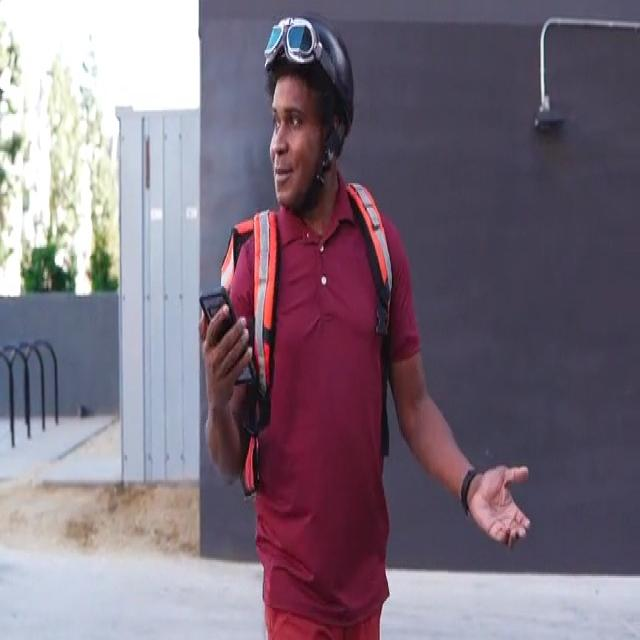Helmet_Wearer: (260, 8, 360, 220)
Person: (198, 12, 530, 640)
